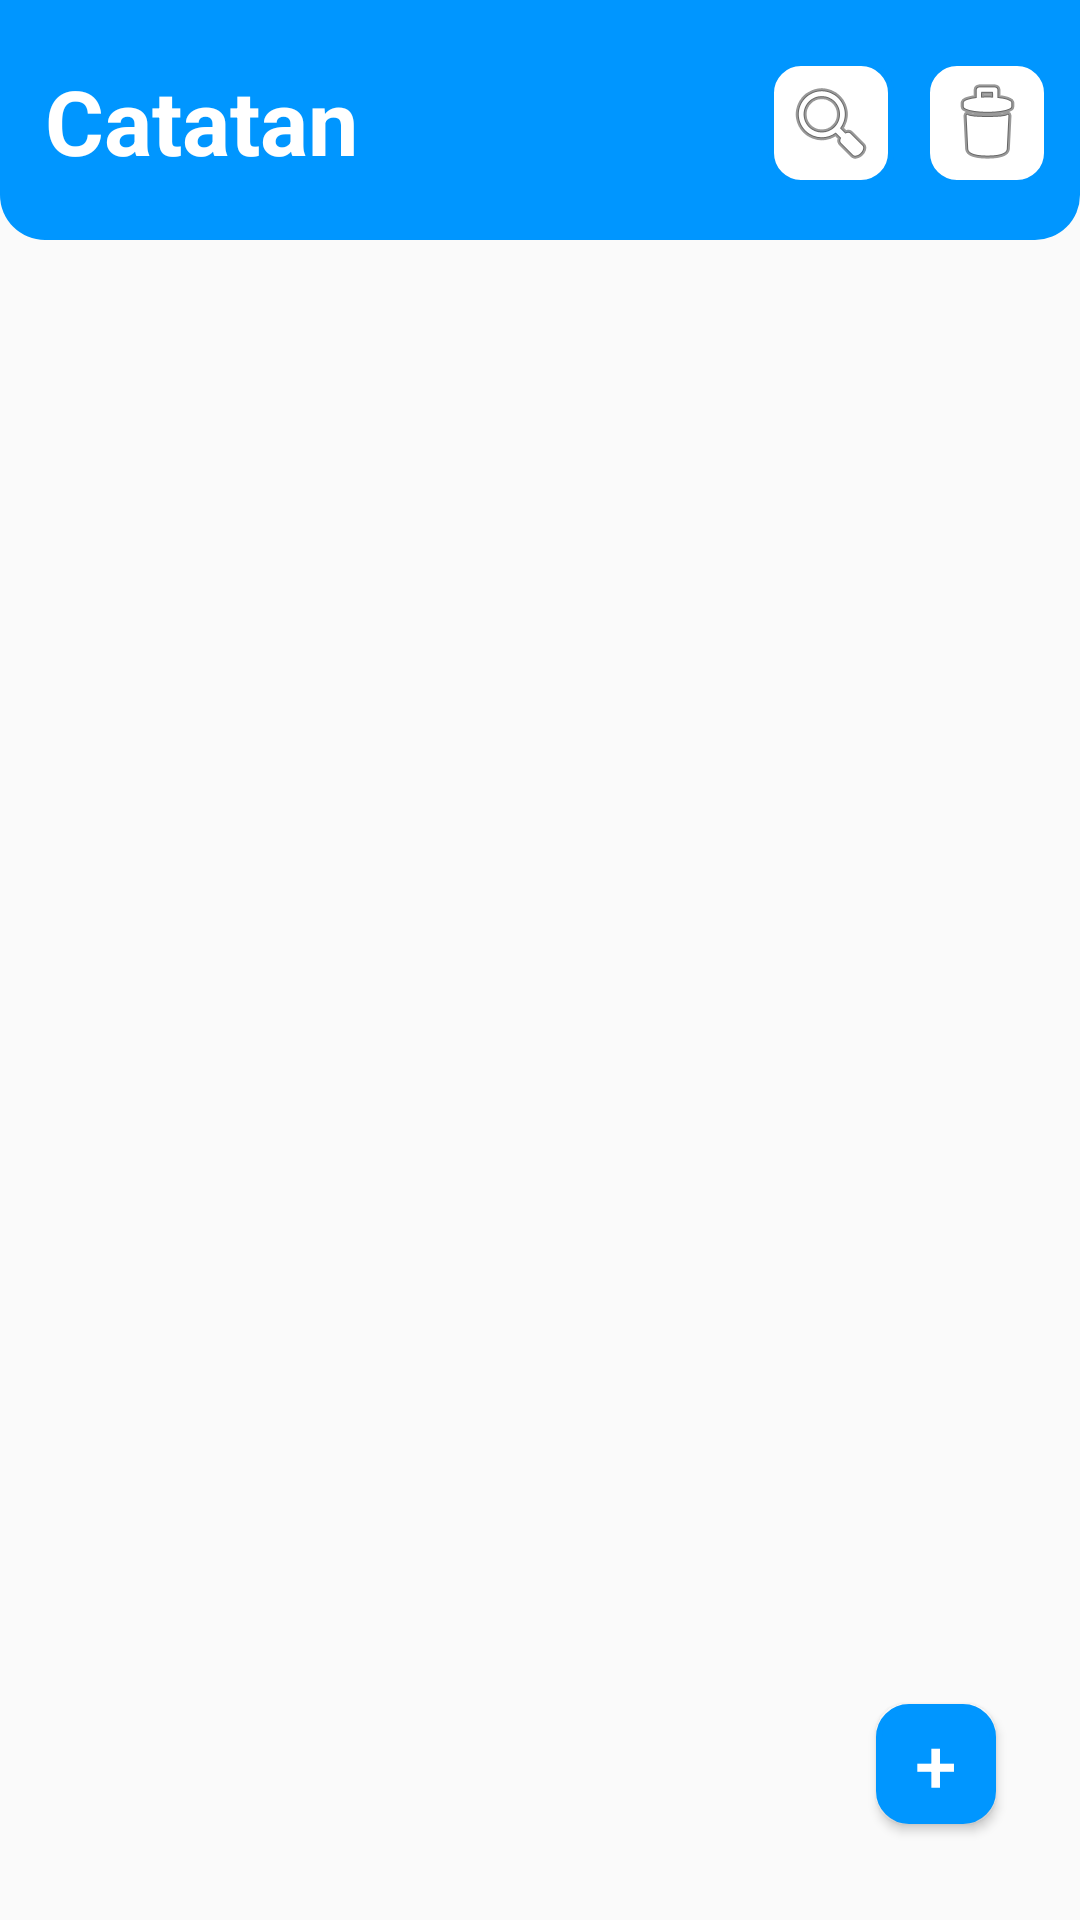

Named icons in this screenshot (1080×1920) and their centers, (x=x, y=y):
delete: (x=987, y=123)
search: (x=831, y=123)
